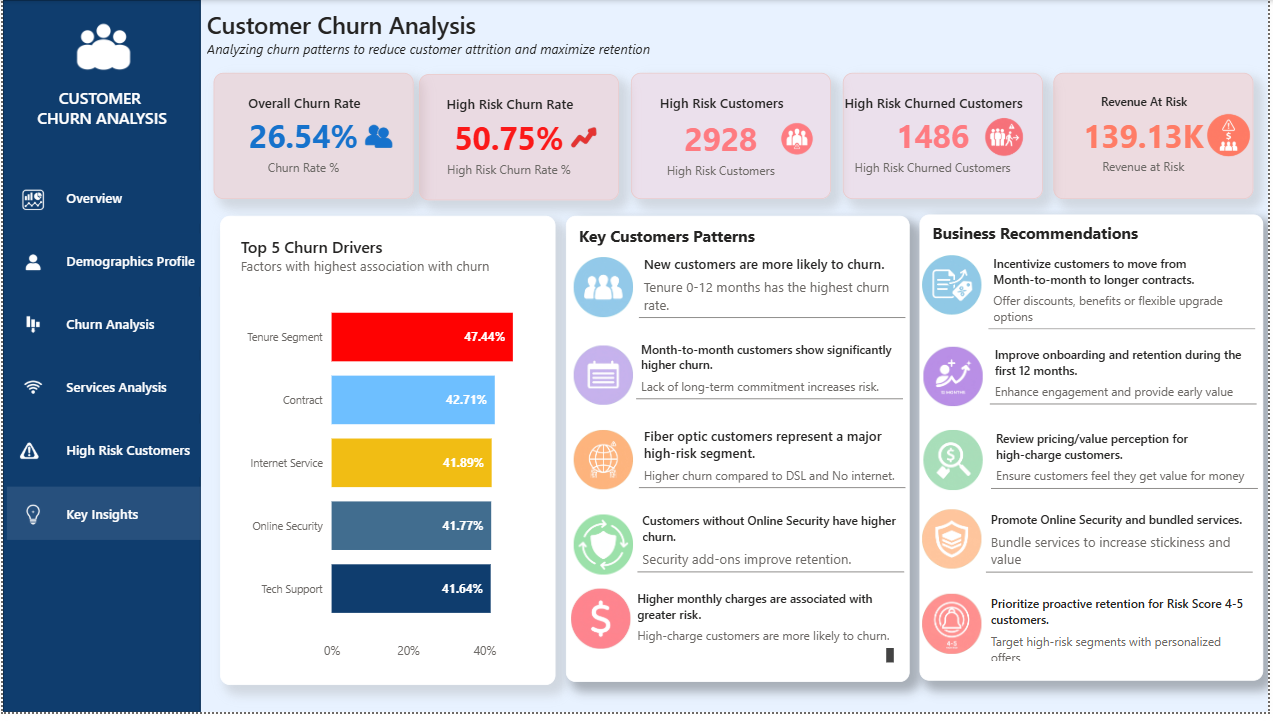

The dashboard page shown, as its layout file describes it:
{"tool":"powerbi","page":{"name":"Key Insights","canvas":[1280,720],"ordinal":5},"visuals":[{"type":"shape","title":"Menu BG","box":[0,0,200,720.3],"z":0},{"type":"image","box":[40.1,0,124.6,94.6],"z":1000},{"type":"textbox","box":[0,82.3,200.3,55.6],"z":2000},{"type":"pageNavigator","title":"Menu Buttons","box":[3.3,172.5,196,378.3],"z":3000},{"type":"image","box":[3.3,505.2,53.4,31.1],"z":4000},{"type":"image","box":[0,440.6,53.4,31.1],"z":5000},{"type":"image","box":[3.3,376.1,53.4,31.1],"z":6000},{"type":"image","box":[3.3,312.7,53.4,31.1],"z":7000},{"type":"image","box":[3.3,249.3,53.4,31.1],"z":8000},{"type":"image","box":[3.3,186.9,53.4,31.1],"z":9000},{"type":"textbox","box":[201.8,2.1,470.2,72.8],"z":10000},{"type":"shape","box":[208.3,65.9,1071.4,651.8],"z":11000},{"type":"card","title":"Overall Churn Rate","fields":{"Values":["public customer_churn.Churn Rate %"]},"box":[211,73.4,202,127.7],"z":12000},{"type":"image","box":[352.7,98.4,54.5,60.2],"z":13000},{"type":"card","title":"High Risk Churn Rate","fields":{"Values":["public customer_churn.High Risk Churn Rate %"]},"box":[421.3,74.4,202.1,127.7],"z":14000},{"type":"image","box":[559.1,100.4,54.5,59.2],"z":15000},{"type":"card","title":"High Risk Customers","fields":{"Values":["public customer_churn.High Risk Customers"]},"box":[634.8,73.4,202.1,127.7],"z":16000},{"type":"image","box":[776,101.3,54.5,59.2],"z":17000},{"type":"card","title":"High Risk Churned Customers","fields":{"Values":["public customer_churn.High Risk Churned Customers"]},"box":[849.3,73.4,202.1,127.7],"z":18000},{"type":"card","title":"Revenue At Risk","fields":{"Values":["public customer_churn.Revenue at Risk"]},"box":[1062.8,73.4,202.1,127.7],"z":19000},{"type":"image","box":[997.8,100.4,55.4,59.2],"z":20000},{"type":"image","box":[1206.8,98.2,54.3,60],"z":21000},{"type":"barChart","title":"Top 5 Churn Drivers","fields":{"Category":["Churn Drivers.Driver"],"Y":["public customer_churn.Churn Driver Rate"]},"box":[219.6,218.3,339.2,474.7],"z":21002},{"type":"barChart","title":"Top 5 Churn Drivers","fields":{"Category":["Churn Drivers.Driver"],"Y":["public customer_churn.Churn Driver Rate"]},"box":[583.8,218.3,366.9,474.7],"z":21003}]}

Visuals, with their boxes in screenshot pixels (x1, y1, x2, y2), scaled from the page's 1280x720 canvas onto the 1273x721 screenshot:
"Menu BG" shape: pyautogui.locateOnScreen(0, 0, 199, 720)
image: pyautogui.locateOnScreen(40, 0, 164, 95)
textbox: pyautogui.locateOnScreen(0, 82, 199, 138)
"Menu Buttons" pageNavigator: pyautogui.locateOnScreen(3, 173, 198, 552)
image: pyautogui.locateOnScreen(3, 506, 56, 537)
image: pyautogui.locateOnScreen(0, 441, 53, 472)
image: pyautogui.locateOnScreen(3, 377, 56, 408)
image: pyautogui.locateOnScreen(3, 313, 56, 344)
image: pyautogui.locateOnScreen(3, 250, 56, 281)
image: pyautogui.locateOnScreen(3, 187, 56, 218)
textbox: pyautogui.locateOnScreen(201, 2, 668, 75)
shape: pyautogui.locateOnScreen(207, 66, 1272, 719)
"Overall Churn Rate" card: pyautogui.locateOnScreen(210, 74, 411, 201)
image: pyautogui.locateOnScreen(351, 99, 405, 159)
"High Risk Churn Rate" card: pyautogui.locateOnScreen(419, 75, 620, 202)
image: pyautogui.locateOnScreen(556, 101, 610, 160)
"High Risk Customers" card: pyautogui.locateOnScreen(631, 74, 832, 201)
image: pyautogui.locateOnScreen(772, 101, 826, 161)
"High Risk Churned Customers" card: pyautogui.locateOnScreen(845, 74, 1046, 201)
"Revenue At Risk" card: pyautogui.locateOnScreen(1057, 74, 1258, 201)
image: pyautogui.locateOnScreen(992, 101, 1047, 160)
image: pyautogui.locateOnScreen(1200, 98, 1254, 158)
"Top 5 Churn Drivers" barChart: pyautogui.locateOnScreen(218, 219, 556, 694)
"Top 5 Churn Drivers" barChart: pyautogui.locateOnScreen(581, 219, 946, 694)
